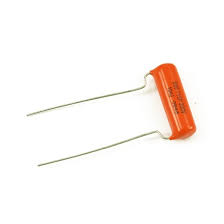ceramic capacitor: (109, 35, 214, 168)
